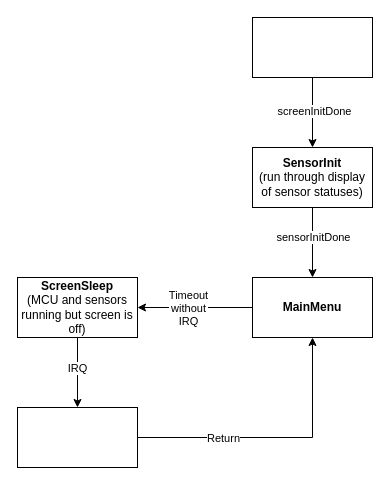
Image size: 390x485. Some labels were removed from this diagram. The shapes that lost their labels are listed below. From the top down, each one's centre as x and y in pixels, then its label:
(x=312, y=47): Init (boot the screen and draw initial splash)
(x=77, y=437): ScreenSplashBoot
